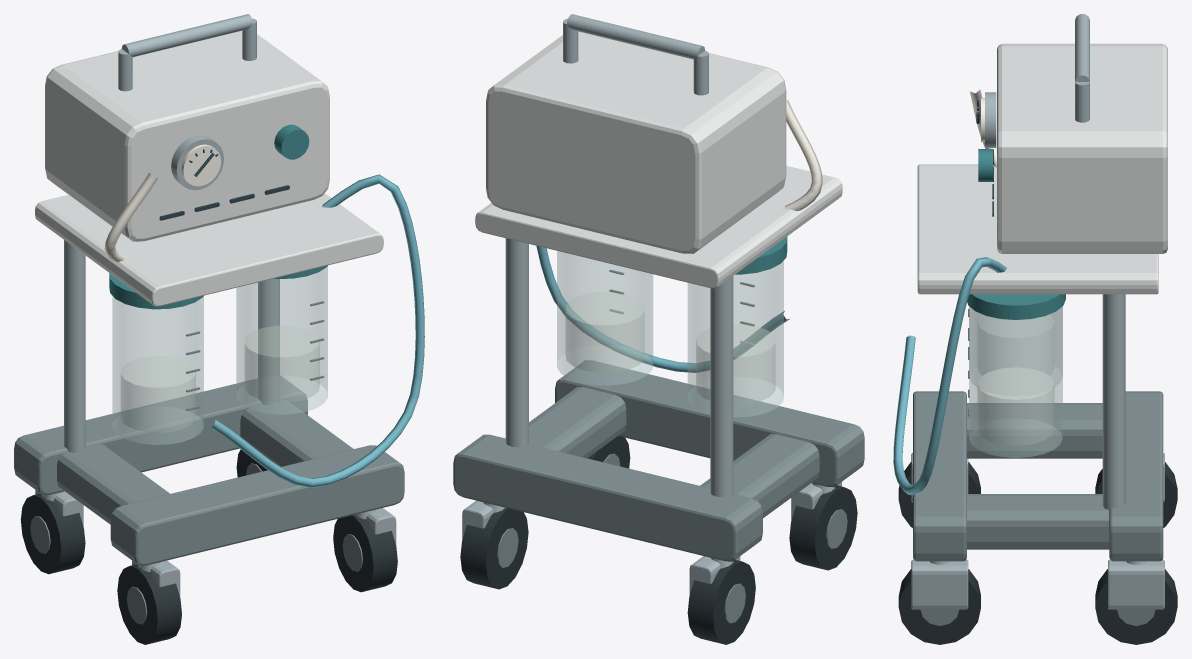
Rendered from portable-suction.glb.
3 renders of one model, left to right at view 1: azimuth 30°, elevation 25°; view 2: azimuth 150°, elevation 25°; view 3: azimuth 270°, elevation 25°, orthographic. The views are drawn at different scales.
Parts seen in each view (by area): view 1: portable-suction-batch (×6), portable-suction; view 2: portable-suction-batch (×5), portable-suction; view 3: portable-suction-batch (×5), portable-suction.
Boxes of the visible parts, x1,y1,x2,y2 form: portable-suction-batch (×6): [14, 14, 404, 644]; portable-suction: [104, 144, 424, 487]; portable-suction-batch (×5): [453, 14, 864, 644]; portable-suction: [536, 100, 822, 416]; portable-suction-batch (×5): [898, 14, 1177, 644]; portable-suction: [893, 89, 1062, 495].
Bounding box in the file's own units: 0.5616 × 0.9414 × 0.4484.
